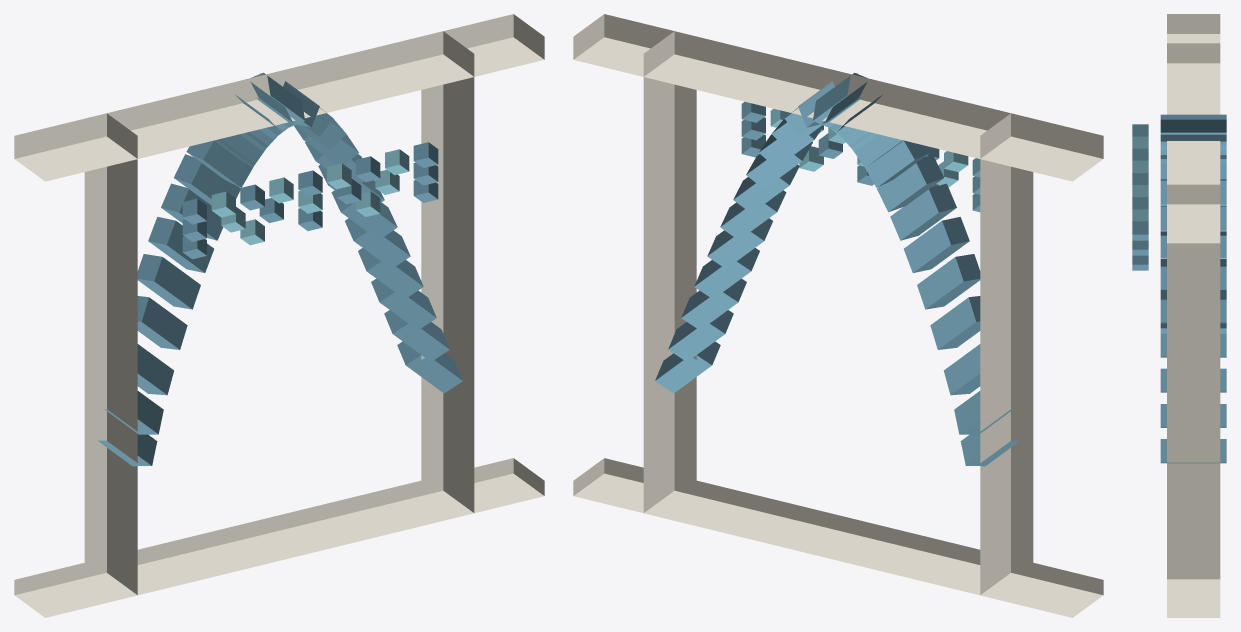
The model's file is islamic_keel_arch.glb.
The picture shows the model from 3 angles, left to right: view 1: azimuth 30°, elevation 25°; view 2: azimuth 150°, elevation 25°; view 3: azimuth 270°, elevation 25°; orthographic projection. The views are drawn at different scales.
Parts seen in each view (by area): view 1: islamic_keel_arch; view 2: islamic_keel_arch; view 3: islamic_keel_arch.
Boxes of the visible parts, x1,y1,x2,y2 form: islamic_keel_arch: [14, 14, 544, 617]; islamic_keel_arch: [573, 14, 1103, 617]; islamic_keel_arch: [1132, 14, 1226, 617].
Bounding box in the file's own units: 5.4 × 4.75 × 1.03.
